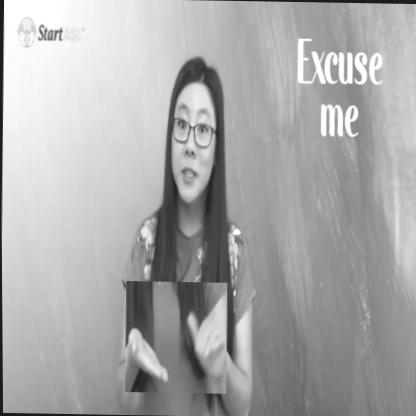ExcuseMe: (123, 280, 227, 394)
